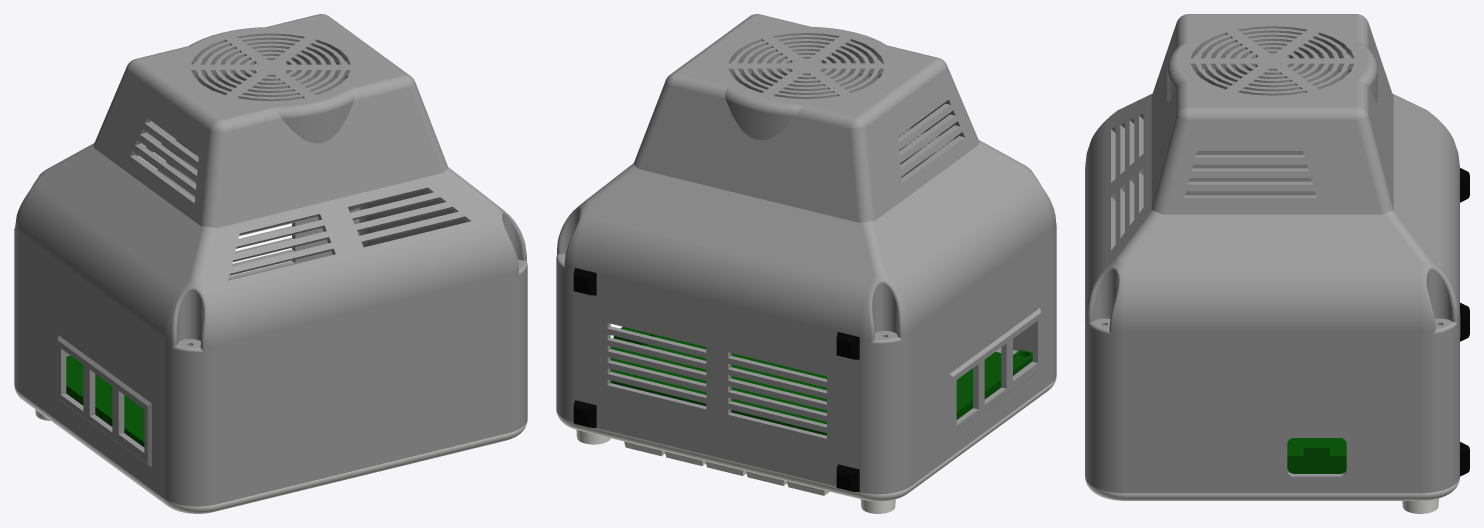
File: Monitor_5-Zoll.fbx
3 renders of one model, left to right at view 1: azimuth 30°, elevation 25°; view 2: azimuth 150°, elevation 25°; view 3: azimuth 270°, elevation 25°, orthographic. The views are drawn at different scales.
Parts seen in each view (by area): view 1: Gehäuse hinten, Gehäuse vorn, Applikationen vorne, TFT; view 2: Gehäuse hinten, Gehäuse vorn, TFT, Applikationen vorne, Fuß vorne links, Fuß hinten rechts, Fuß hinten links, Fuß vorne rechts; view 3: Gehäuse hinten, Gehäuse vorn, Applikationen vorne, TFT.
Boxes of the visible parts, left/top/right/bottom form: Gehäuse hinten: left=14, top=14, right=527, bottom=381; Gehäuse vorn: left=14, top=197, right=527, bottom=506; Applikationen vorne: left=14, top=385, right=527, bottom=513; TFT: left=66, top=355, right=144, bottom=447; Gehäuse hinten: left=556, top=14, right=1056, bottom=372; Gehäuse vorn: left=556, top=254, right=1056, bottom=494; TFT: left=610, top=326, right=1032, bottom=435; Applikationen vorne: left=556, top=378, right=1056, bottom=513; Fuß vorne links: left=836, top=464, right=859, bottom=492; Fuß hinten rechts: left=573, top=267, right=596, bottom=295; Fuß hinten links: left=836, top=332, right=859, bottom=359; Fuß vorne rechts: left=573, top=400, right=596, bottom=427; Gehäuse hinten: left=1085, top=14, right=1460, bottom=365; Gehäuse vorn: left=1085, top=191, right=1459, bottom=493; Applikationen vorne: left=1085, top=478, right=1459, bottom=513; TFT: left=1287, top=438, right=1346, bottom=473.
Size of the model in its own units: 130 by 125 by 117.
